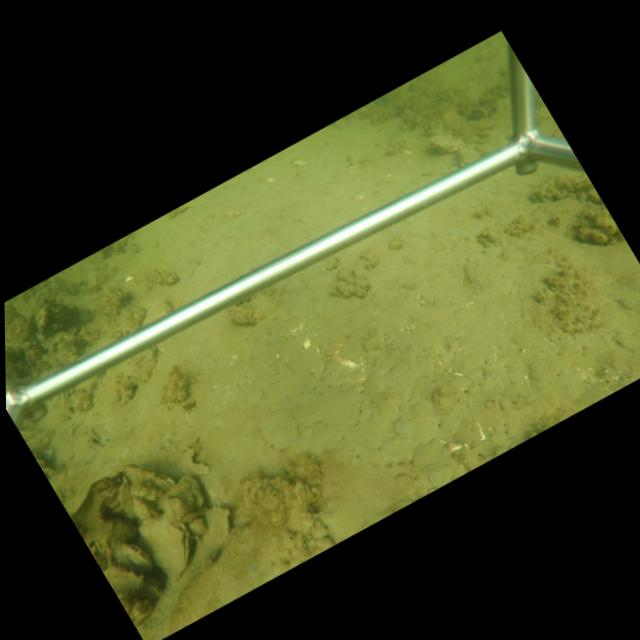Oyster-Closed: (137, 514, 193, 590), (118, 461, 178, 493), (109, 536, 155, 576), (457, 141, 493, 167), (428, 134, 466, 155), (181, 490, 196, 511)
